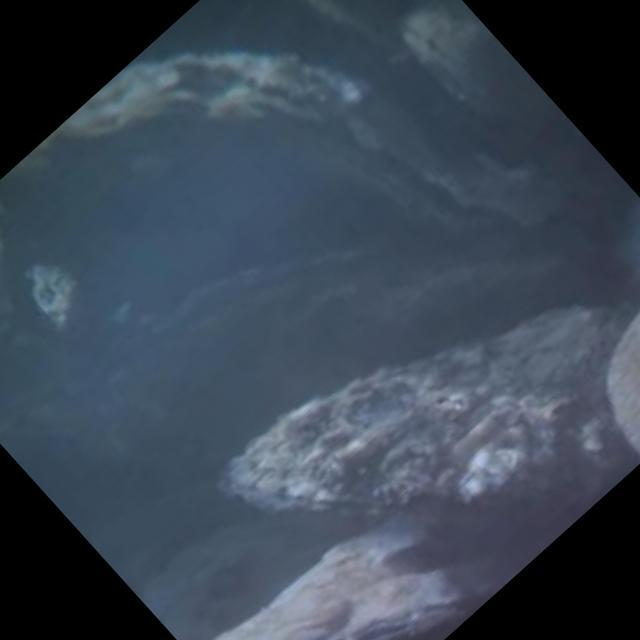Oyster- Indeterminate: (225, 304, 639, 520)
Oyster-Closed: (218, 504, 540, 640)
Oyster-Open: (23, 42, 575, 240), (95, 240, 427, 466)
